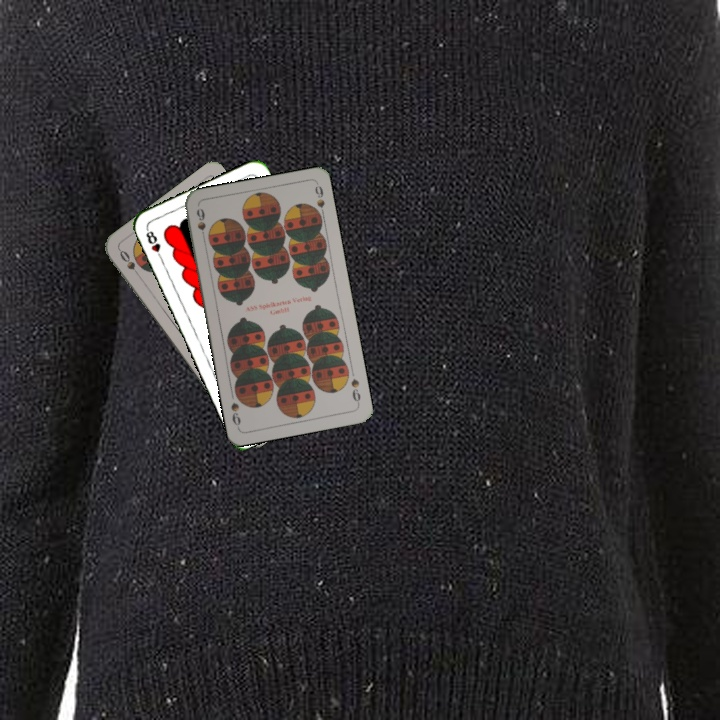H8: (142, 224, 165, 263)
S9: (192, 204, 208, 244), (347, 374, 363, 407)
SO: (115, 246, 144, 281)
